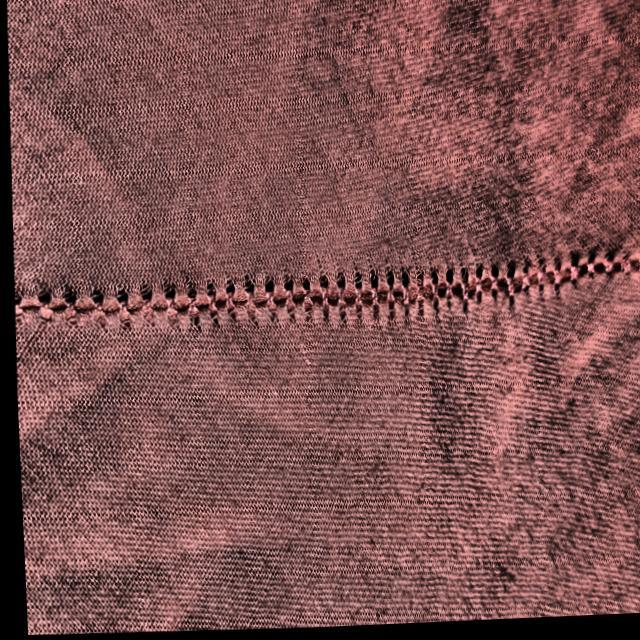seam: (13, 242, 639, 322)
